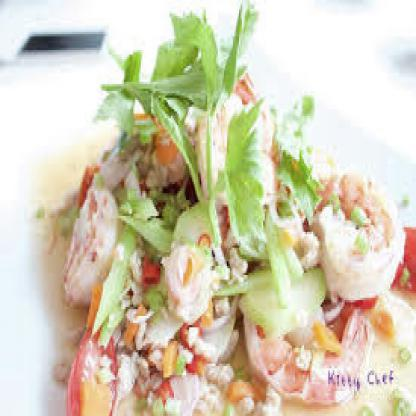Yum: (30, 10, 410, 414)
